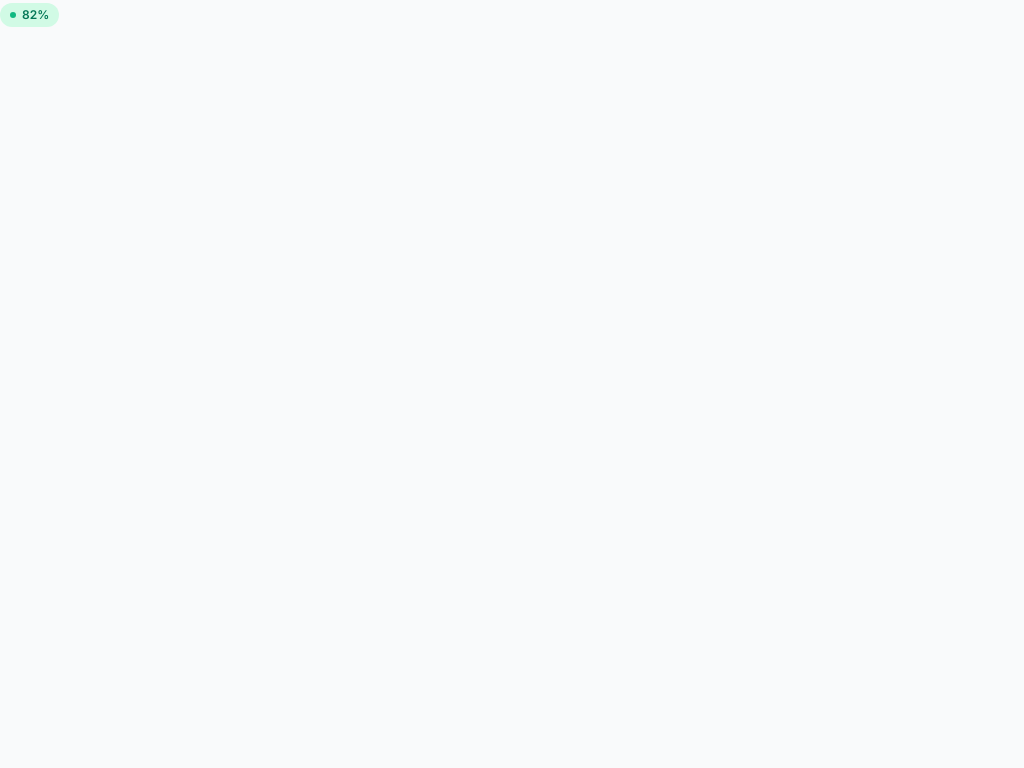
Test: HealthBadge › shows the no-attendance-data note when has_attendance_data is false
The width and height of the screenshot is (1024, 768).
Step 1. Click the button with test id "prog-health" → (30, 15), box [0,3,59,27]
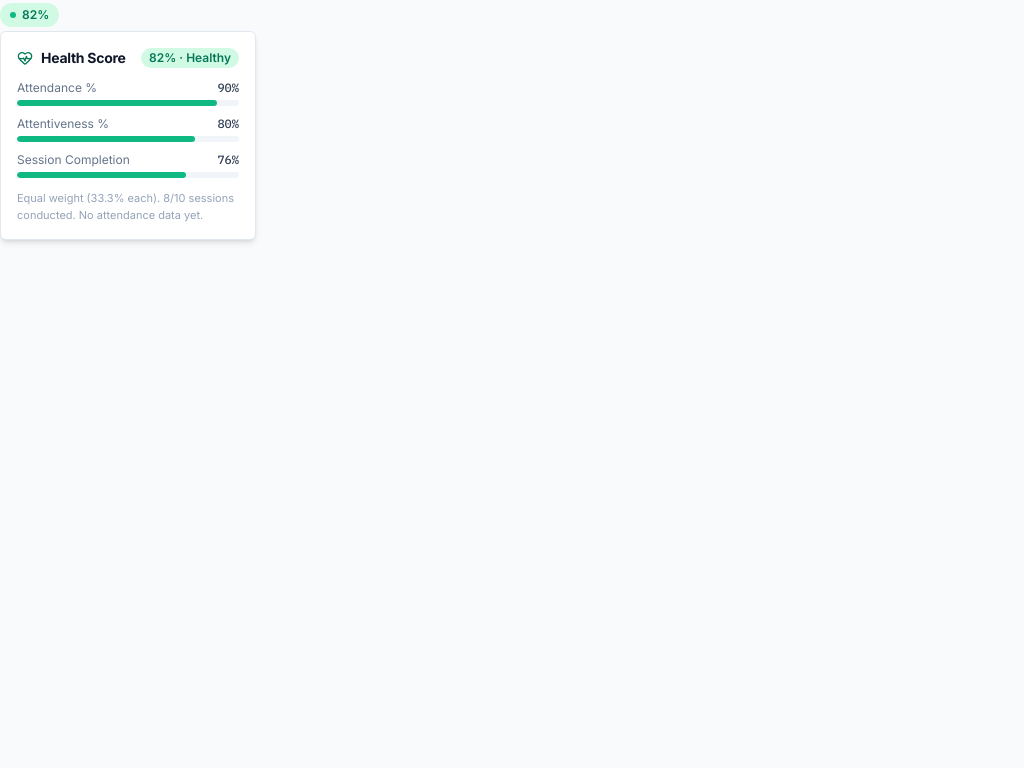
Expected: the text "Health Score" is shown, [41,48,126,68]
Expected: the text "No attendance data yet." is shown, [76,208,203,222]
